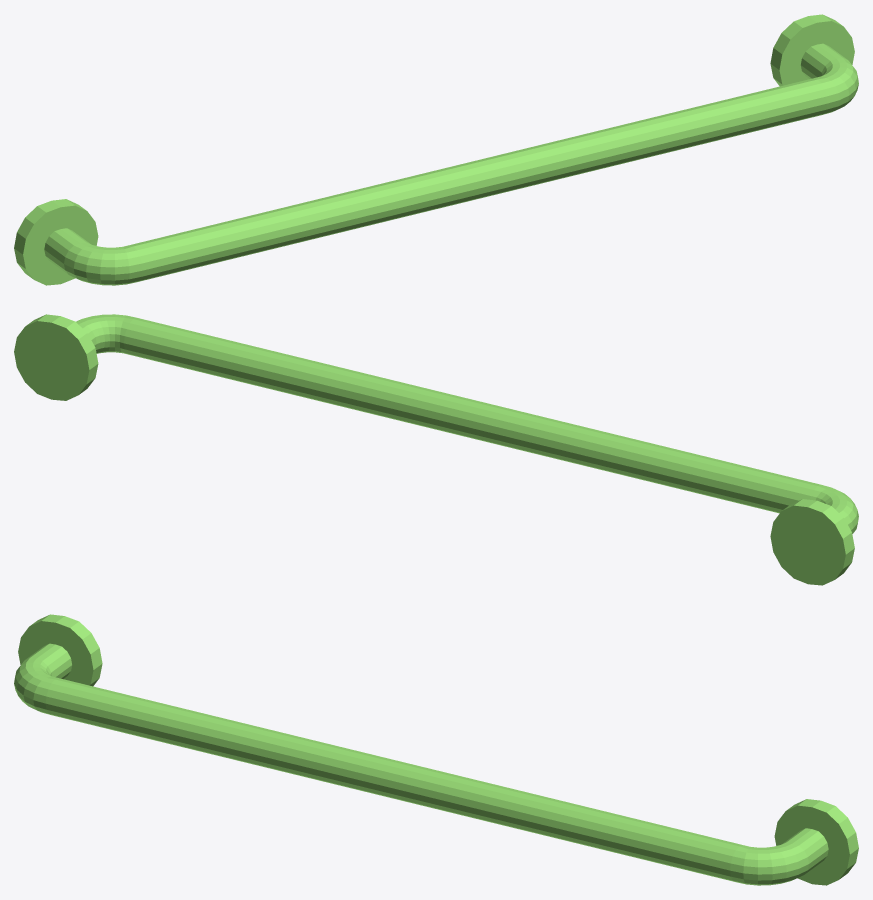
Rendered from Towel Hanger_02.fbx.
3 views of the same model, one above another, from view 1: azimuth 30°, elevation 25°; view 2: azimuth 150°, elevation 25°; view 3: azimuth 330°, elevation 25° (orthographic).
Parts seen in each view (by area): view 1: Towel Hanger_02; view 2: Towel Hanger_02; view 3: Towel Hanger_02.
Boxes of the visible parts, x1=… form: Towel Hanger_02: x1=14, y1=14, x2=858, y2=285; Towel Hanger_02: x1=14, y1=314, x2=858, y2=585; Towel Hanger_02: x1=14, y1=614, x2=858, y2=885.
Bounding box in the file's own units: 52.21 × 4.62 × 6.
